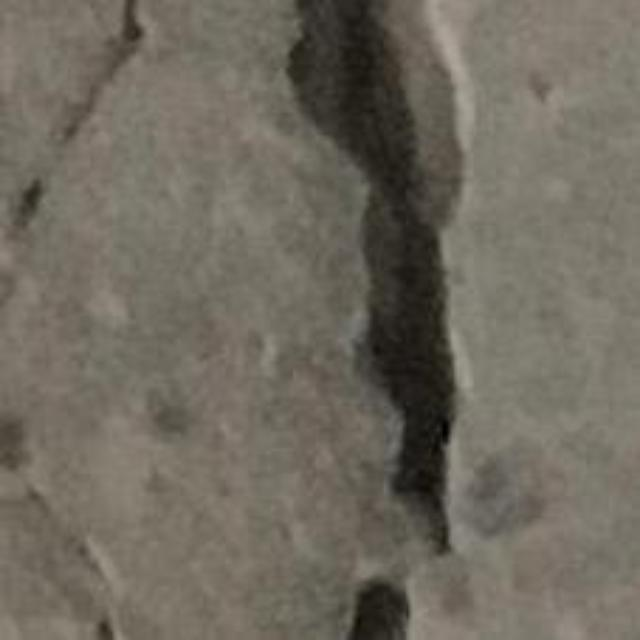crack: (291, 0, 462, 552), (9, 0, 143, 236), (367, 198, 453, 552), (291, 0, 417, 200), (0, 415, 118, 628), (26, 477, 118, 639), (60, 0, 143, 143), (26, 480, 115, 600), (350, 581, 408, 639), (0, 412, 31, 473), (12, 178, 45, 231), (122, 0, 143, 47), (96, 618, 118, 639)
